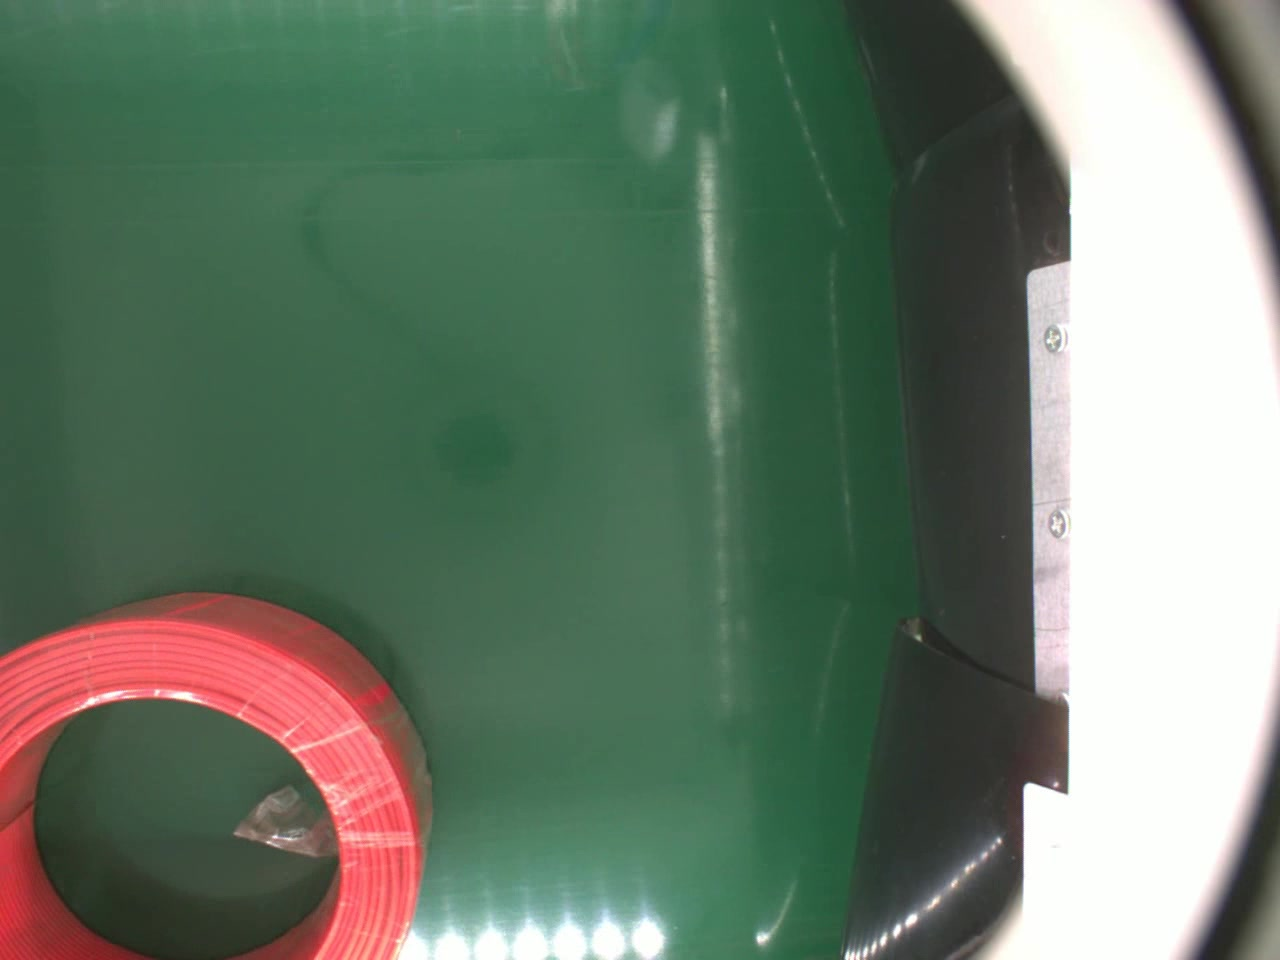red: (0, 588, 434, 960)
